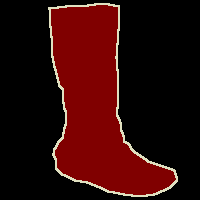shoe: (49, 4, 177, 196)
